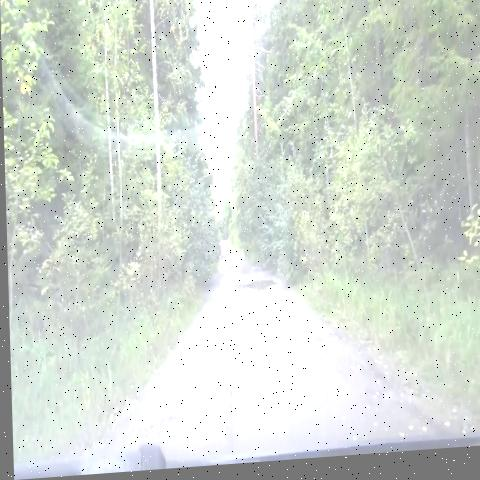pothole: (135, 404, 188, 445), (236, 270, 280, 308), (182, 357, 219, 386), (217, 267, 242, 295)
